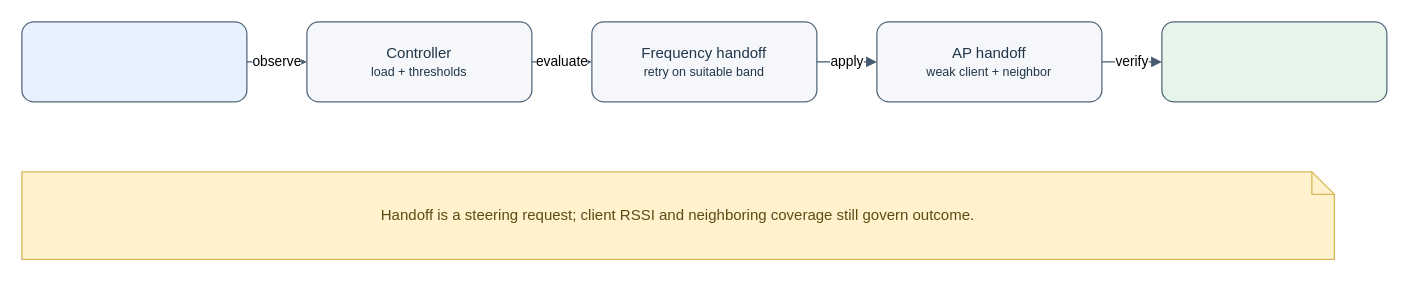
Image size: 1409x281. Some labels were removed from this diagram. Each missing label, with the centre of its shape:
"Client join band + RSSI" goes at (134,61).
"Verify RSSI / retries / airtime" goes at (1274,61).
